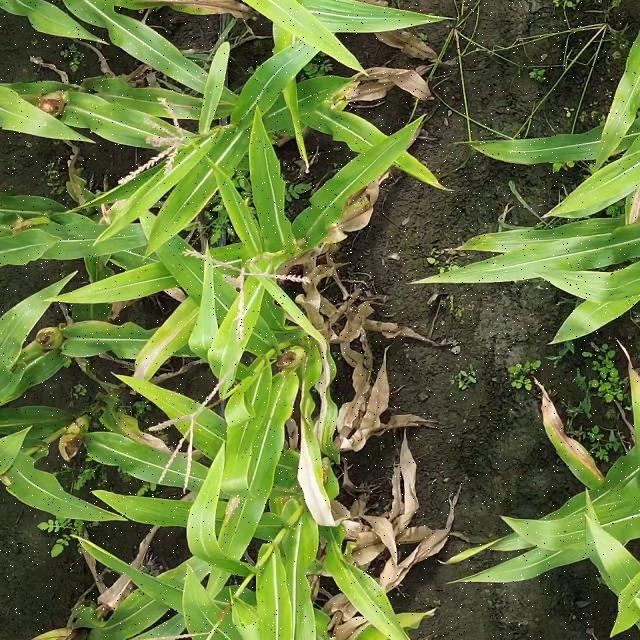gray-leaf-spot: (573, 218, 609, 236)
northern-leaf-blight: (553, 436, 603, 481), (316, 371, 338, 448), (138, 345, 171, 384), (141, 0, 230, 14), (69, 181, 93, 208)
southern-leaf-blight: (4, 319, 30, 361), (605, 99, 633, 138)
